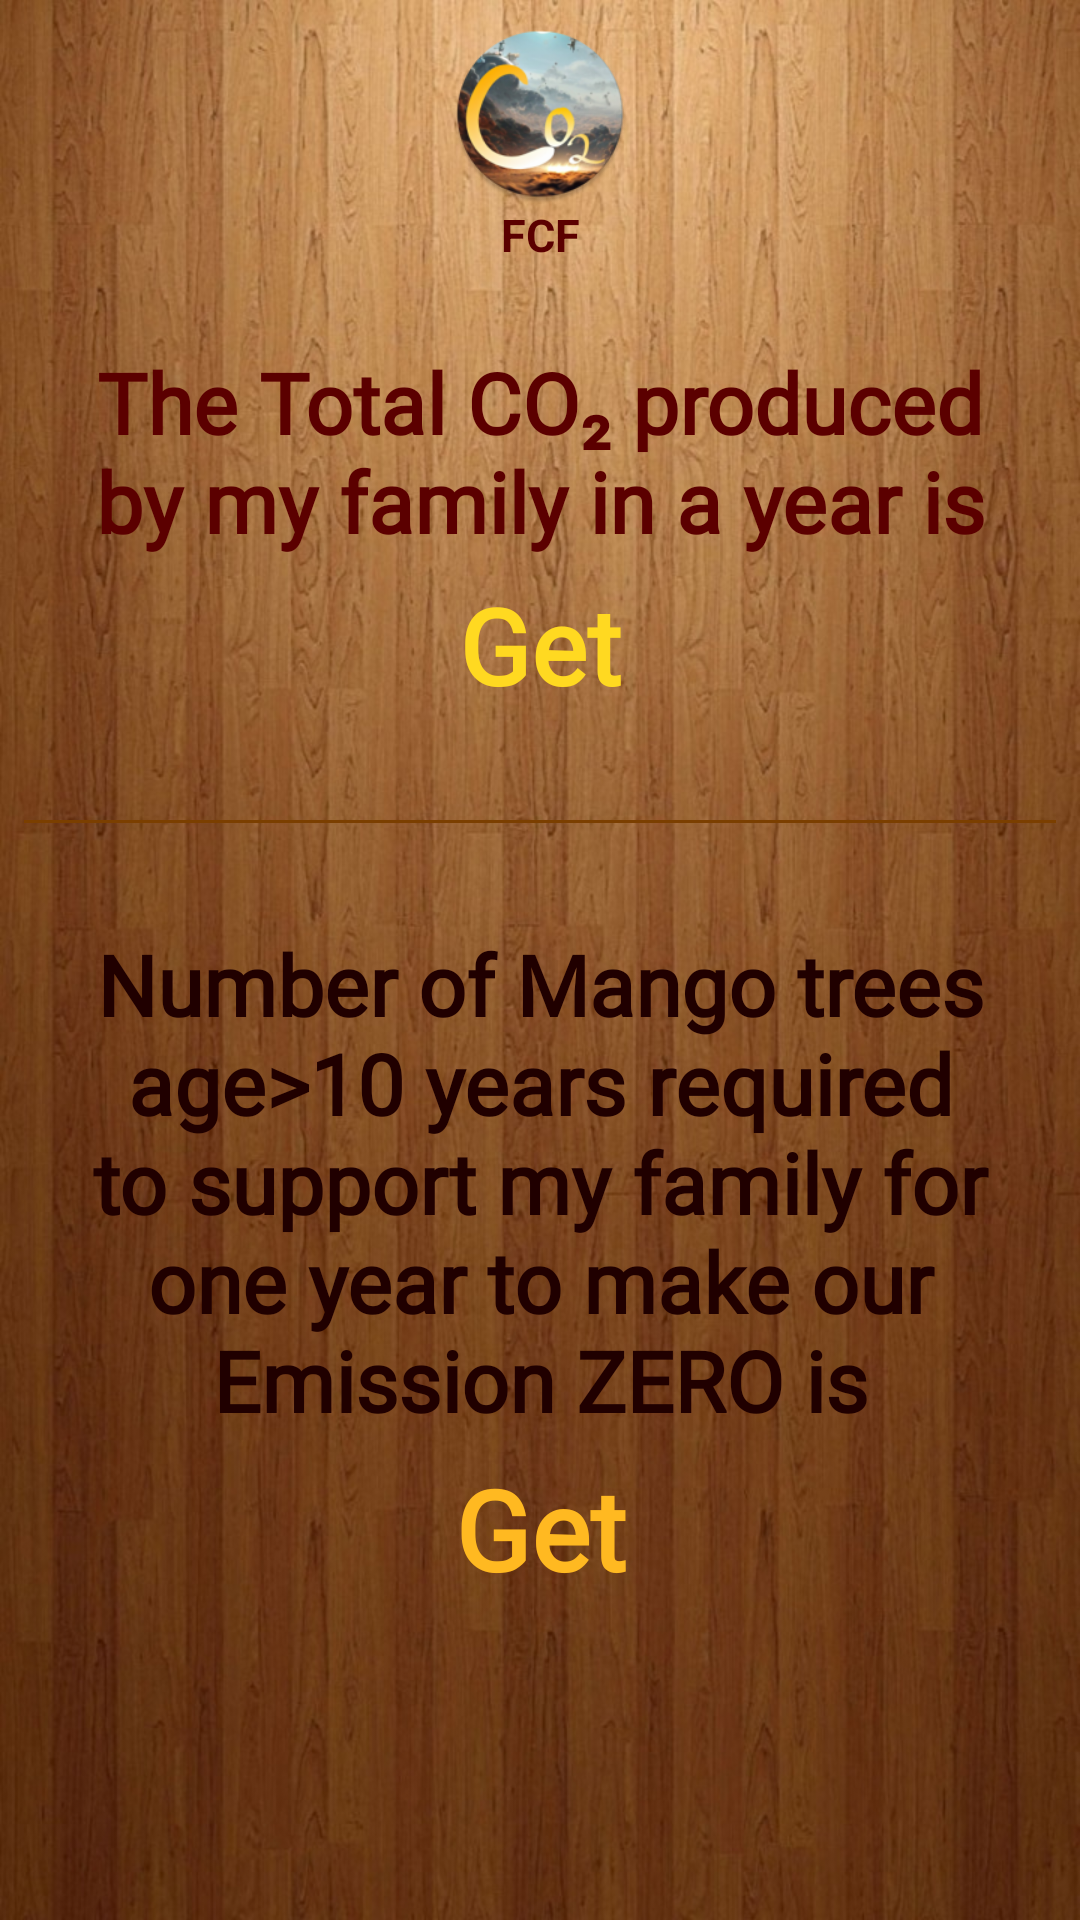

Locate icon controls on the screen. Image size 1080w x 1920h, boxes as BBox(x1, y1, x2, y2).
iconforappnew round: BBox(452, 24, 624, 204)
